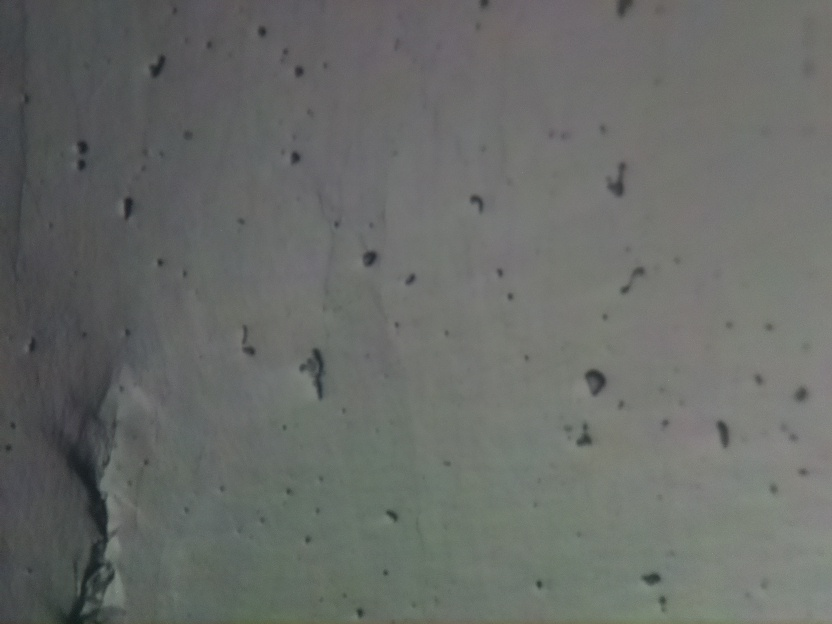crack: (71, 411, 119, 624)
